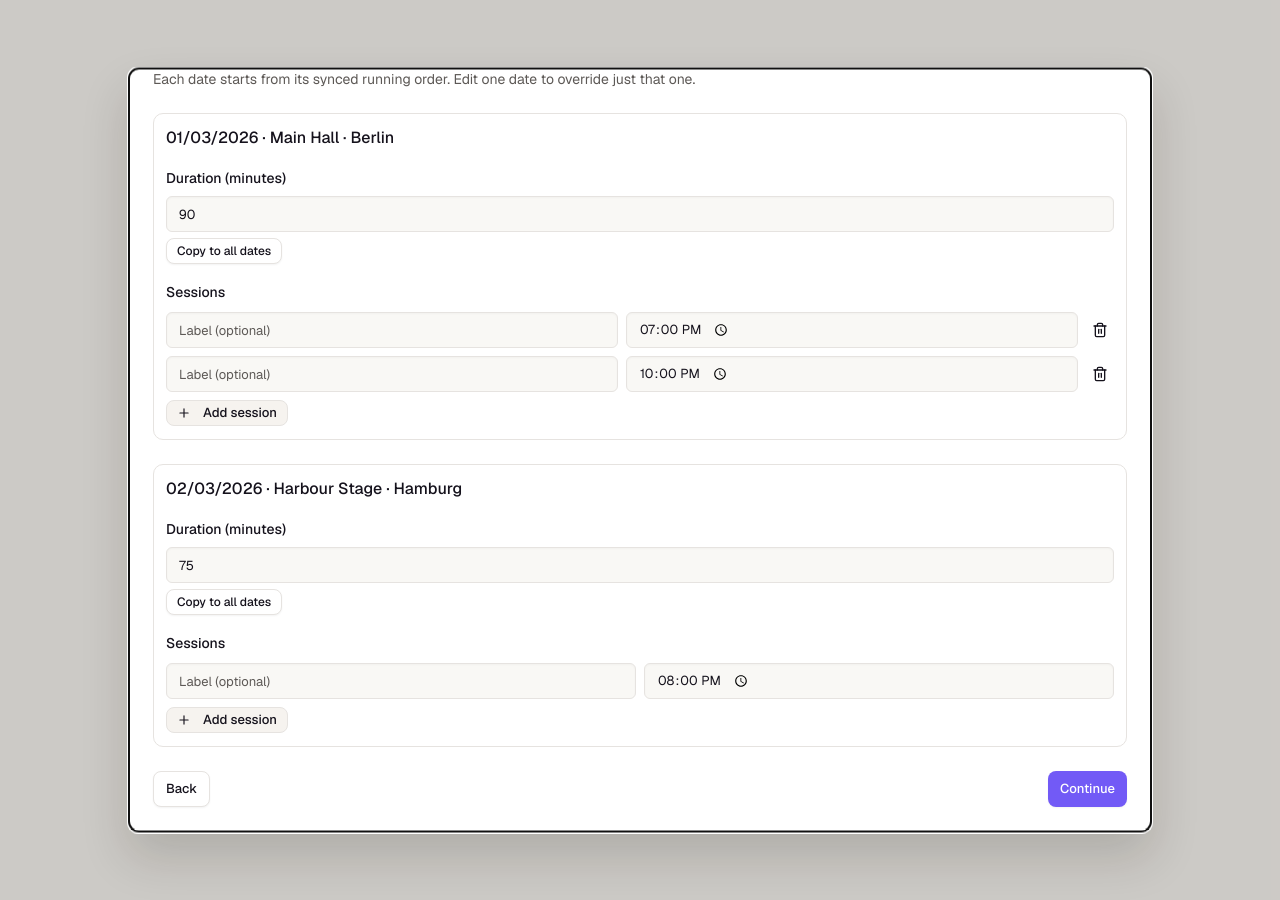
Test: NewOrderWizard › creates one batch payload row per selected artist with its checked dates
This screenshot has width=1280, height=900.
Earlier steps of the test are not shown.
Later steps or results of the test are not shown.
(page scrolled)
Click the button "Continue": (1088, 790) x1=1048 y1=772 x2=1127 y2=808
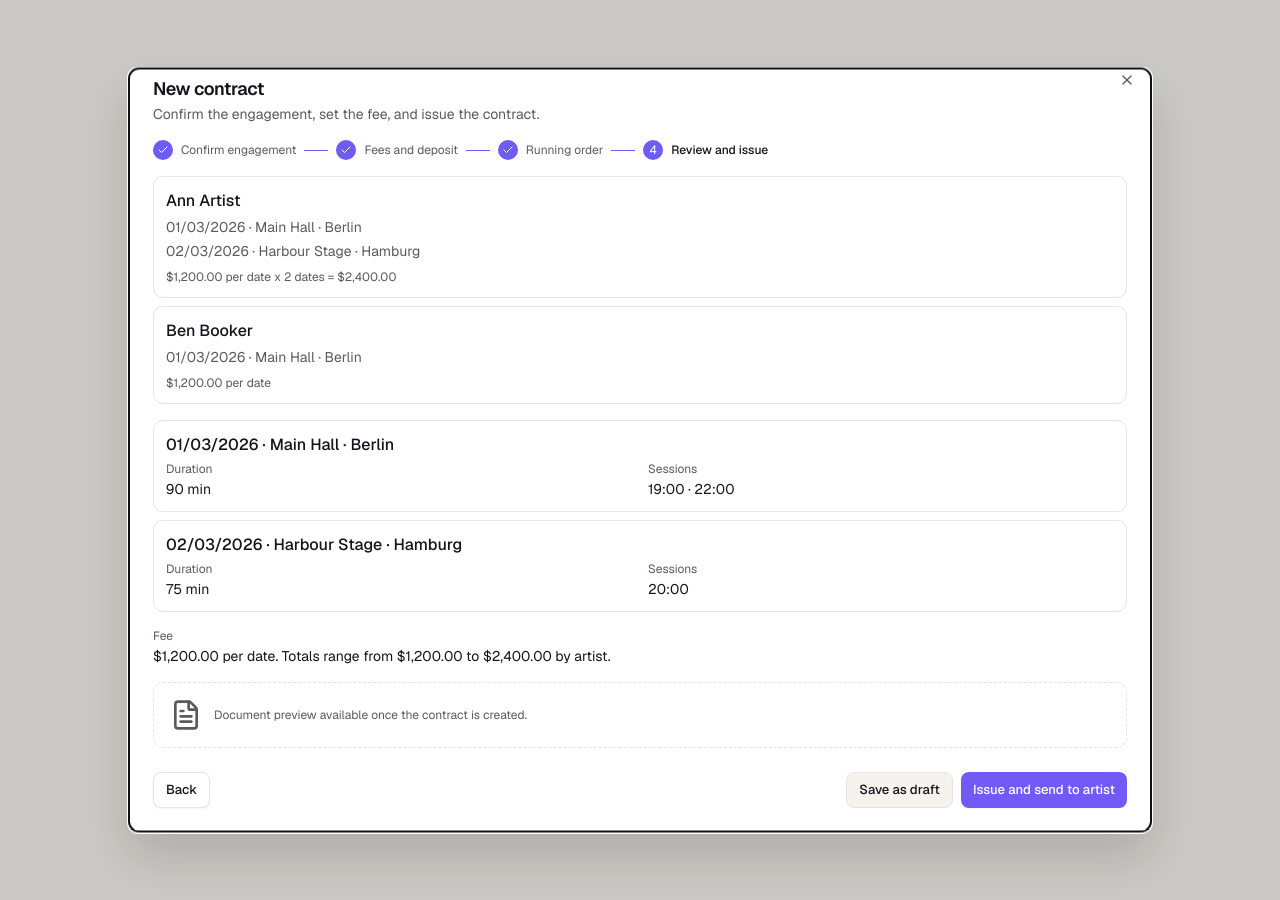
Check: the button "Save as draft" is shown, box x1=846 y1=772 x2=953 y2=808
Check: the list item "01/03/2026 · Main Hall · Berlin" below "Ann Artist" is shown, box x1=166 y1=218 x2=362 y2=236
Check: the list item "02/03/2026 · Harbour Stage · Hamburg" is shown, box x1=166 y1=242 x2=420 y2=260
